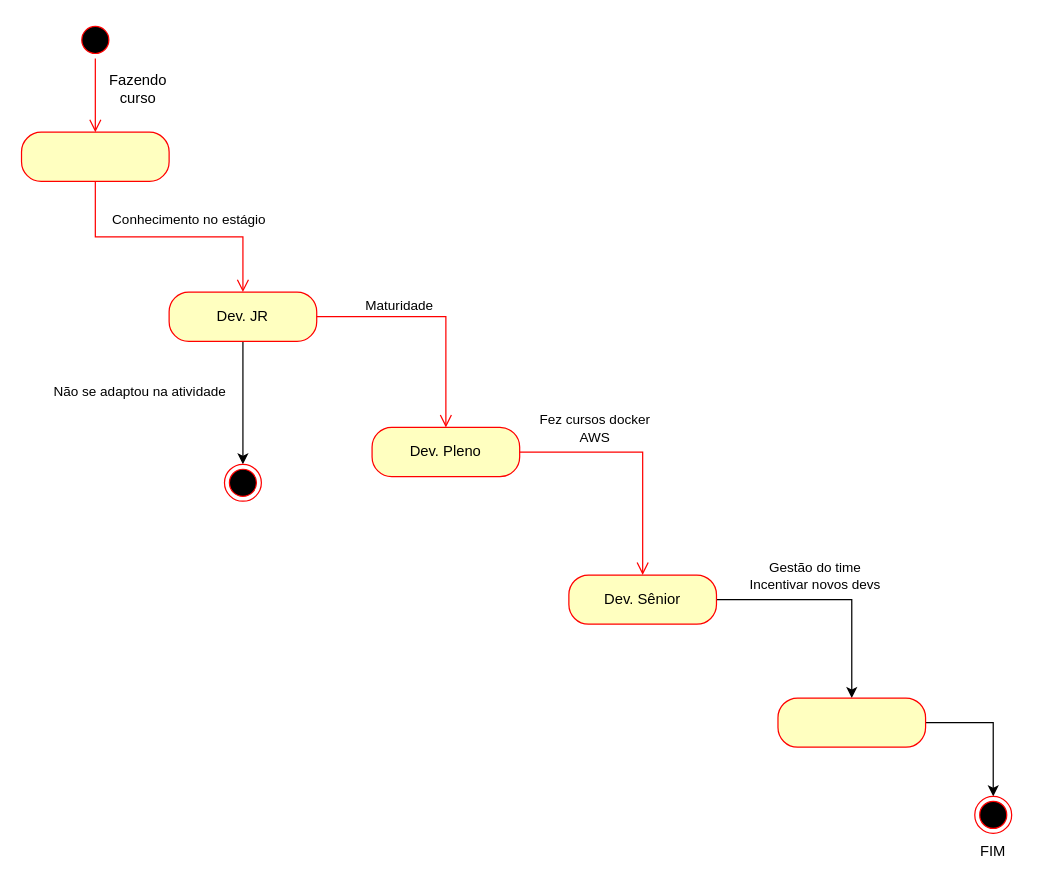
Some shapes in this 1052 by 892 pixel diagram are drawn without their labels. Each missing label, with the box of its shape:
Dev. Master: (777, 697, 926, 747)
Pedido recebido: (20, 131, 169, 181)
